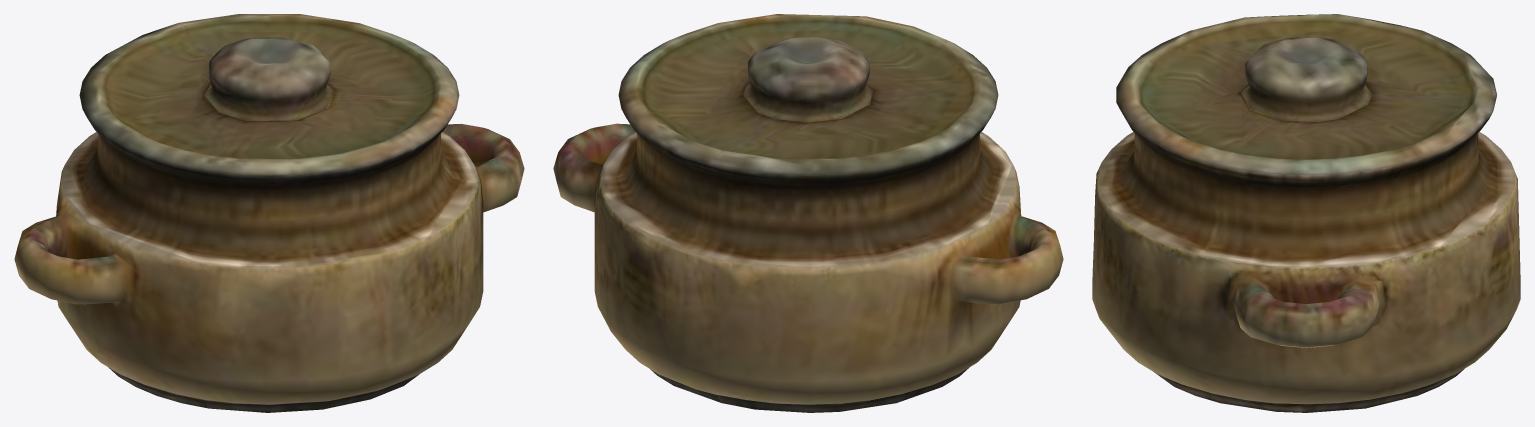
The model's file is th_keramiktopf.glb.
The picture shows the model from 3 angles, left to right: view 1: azimuth 30°, elevation 25°; view 2: azimuth 150°, elevation 25°; view 3: azimuth 270°, elevation 25°; orthographic projection.
Parts seen in each view (by area): view 1: ceramic_pot; view 2: ceramic_pot; view 3: ceramic_pot.
Part boxes in pixels (box(x1,y1,x2,y2)): ceramic_pot: box(14, 14, 524, 412); ceramic_pot: box(553, 14, 1063, 412); ceramic_pot: box(1092, 14, 1520, 412).
Bounding box in the file's own units: 0.6563 × 0.3717 × 0.4989.
Materials: 1 (1 with a texture image).
